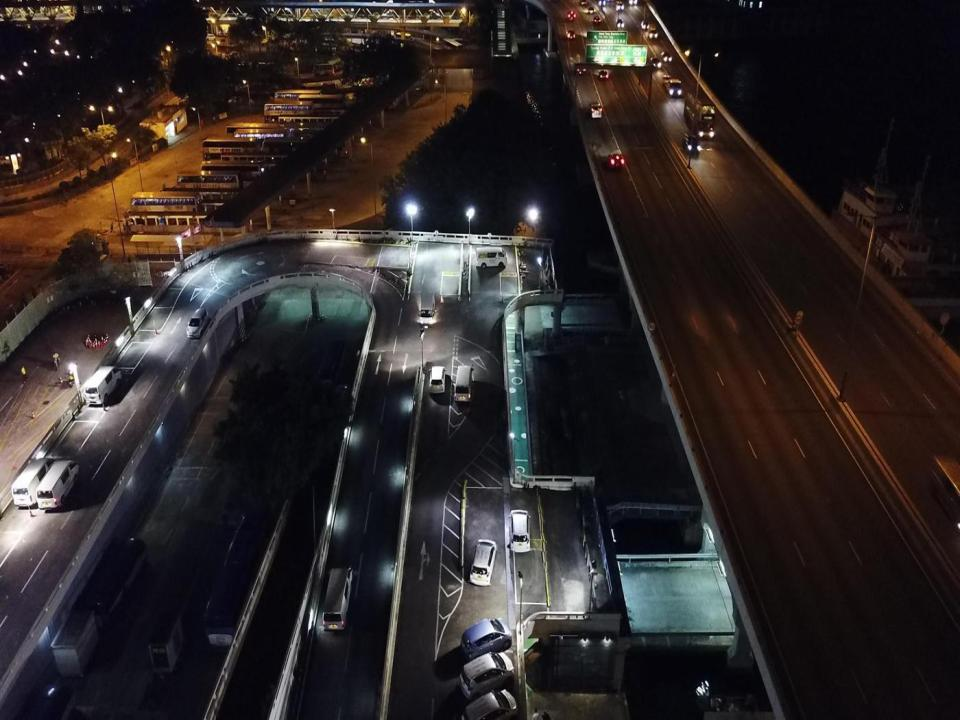bus: (204, 508, 268, 646), (76, 530, 148, 631), (932, 453, 960, 531), (227, 123, 300, 150), (129, 191, 202, 217), (176, 170, 242, 195), (683, 91, 714, 138), (200, 164, 261, 185), (298, 95, 353, 116), (264, 102, 316, 124), (202, 139, 260, 158), (274, 92, 323, 110), (443, 37, 464, 56), (312, 63, 334, 75), (323, 60, 343, 72), (396, 31, 412, 43)
car: (459, 651, 514, 696), (462, 618, 512, 660), (463, 689, 514, 719), (469, 537, 497, 586), (509, 510, 531, 554), (430, 366, 446, 395), (576, 62, 586, 76), (598, 68, 609, 80), (662, 75, 672, 87), (661, 50, 671, 61), (651, 56, 660, 68), (567, 29, 576, 40), (642, 20, 650, 31), (687, 138, 696, 146), (594, 16, 602, 24), (616, 20, 624, 28), (616, 3, 624, 11), (587, 6, 594, 13)
truck: (666, 78, 682, 97), (647, 25, 658, 39)
van: (36, 452, 77, 512), (12, 453, 54, 505), (323, 563, 354, 631), (84, 364, 123, 408), (475, 246, 509, 268), (186, 308, 210, 339), (454, 366, 474, 401), (418, 291, 436, 326), (610, 150, 623, 170), (590, 100, 602, 120), (567, 9, 576, 21)
